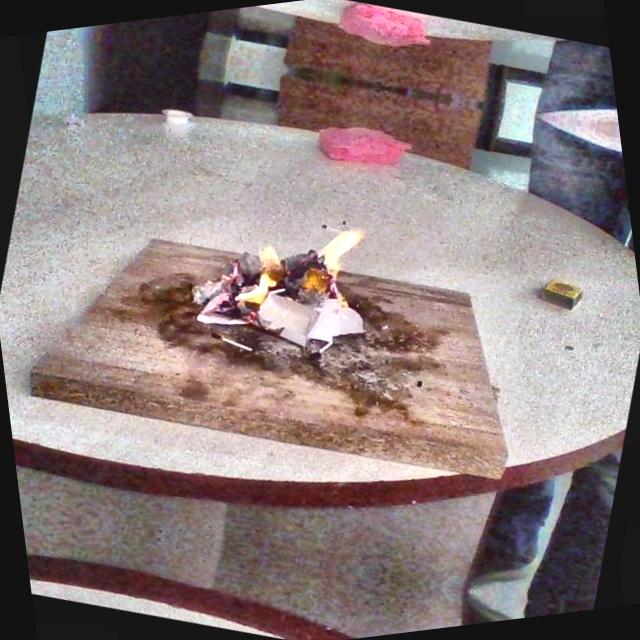fire: (200, 178, 411, 393)
